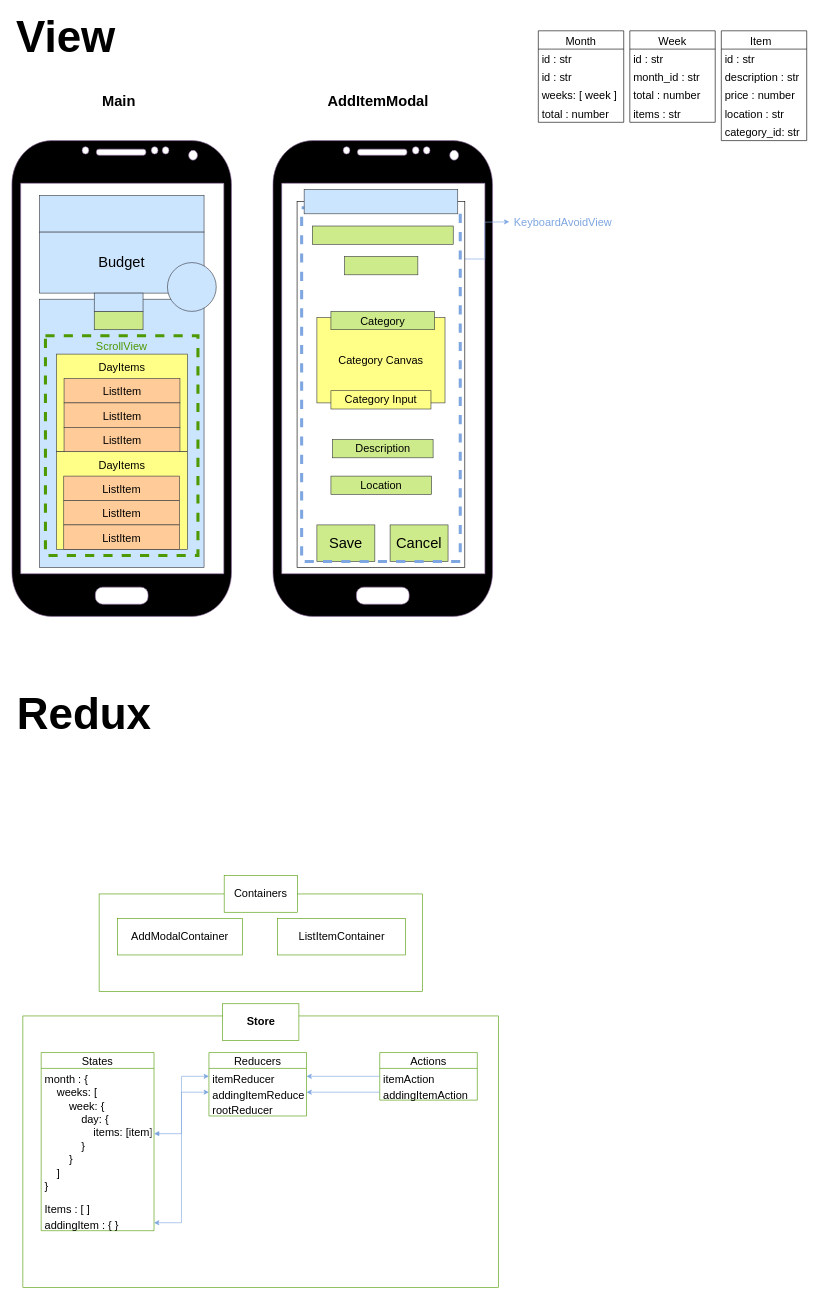
Some shapes in this 817 by 1298 pixel diagram are drawn without their labels. Here are the shapes that lost their labels. From the top down, the centre of each, then its label:
pixel 121 213: CalendarBox
pixel 381 201: AddItemInputForm:Modal
pixel 382 234: Calendar : CalendarBox(UI)
pixel 381 265: Amount
pixel 118 301: ItemList
pixel 191 286: addItemButton
pixel 118 320: Week 1
